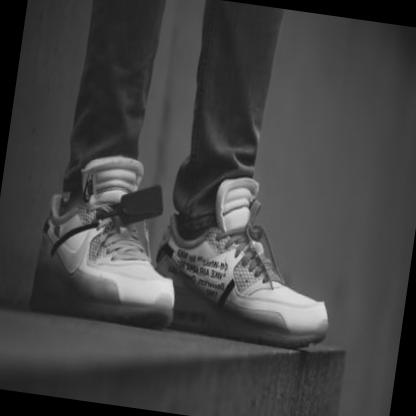ankle: (67, 205, 72, 213), (195, 220, 200, 227)
heel: (41, 278, 46, 286), (180, 278, 185, 284)
left_foot: (33, 177, 187, 327)
pinky: (313, 300, 318, 306), (123, 284, 128, 289)
right_foot: (170, 191, 344, 353)
toe: (294, 310, 301, 316), (165, 278, 170, 284)
